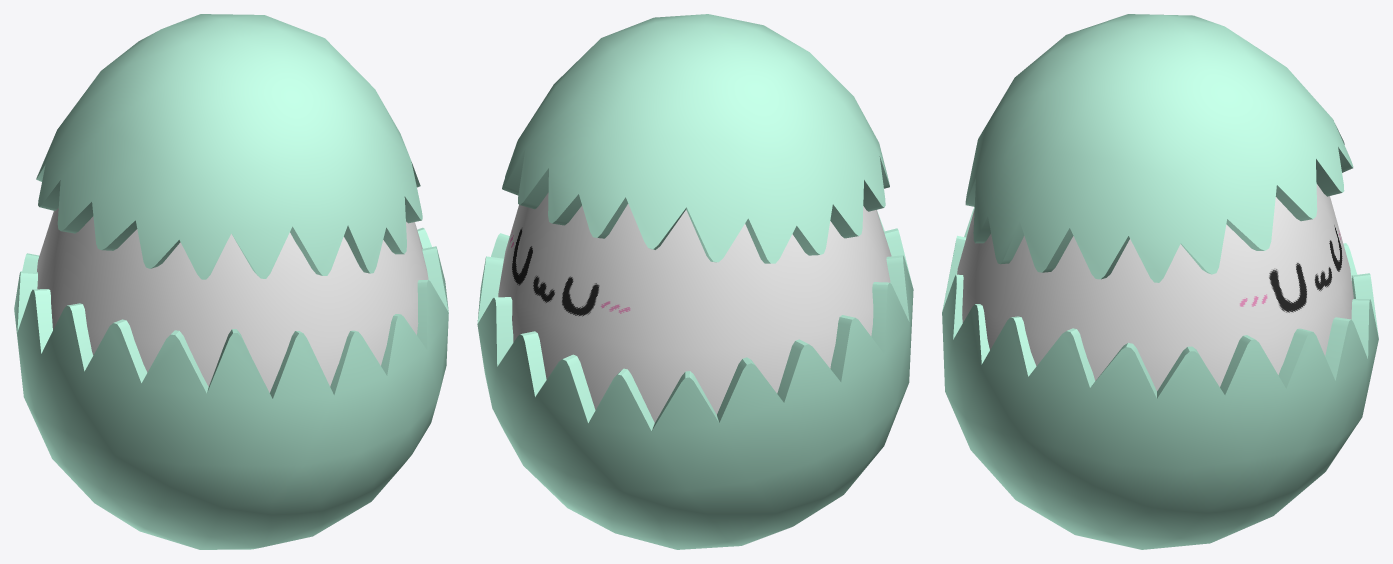
File: egg.glb
The picture shows the model from 3 angles, left to right: view 1: azimuth 30°, elevation 25°; view 2: azimuth 150°, elevation 25°; view 3: azimuth 270°, elevation 25°; orthographic projection.
Parts seen in each view (by area): view 1: Shell_2, White_3; view 2: Shell_2, White_3; view 3: Shell_2, White_3.
Boxes of the visible parts, x1=… form: Shell_2: x1=14, y1=14, x2=448, y2=549; White_3: x1=37, y1=208, x2=428, y2=392; Shell_2: x1=477, y1=14, x2=913, y2=549; White_3: x1=498, y1=192, x2=891, y2=422; Shell_2: x1=942, y1=14, x2=1378, y2=549; White_3: x1=957, y1=184, x2=1353, y2=390.
Size of the model in its own units: 1.99 by 2.5 by 1.99.
3 materials, 1 textured.
